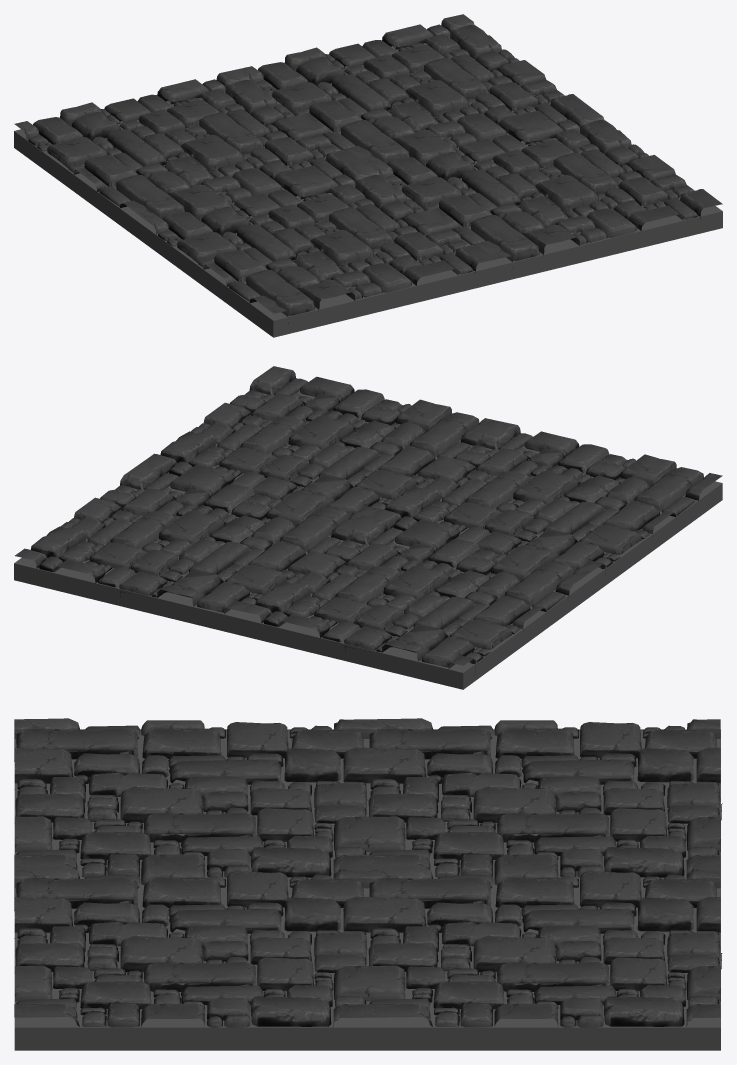
The model's file is cobblestone_plainSmall.fbx.
The picture shows the model from 3 angles, top to bottom: view 1: azimuth 30°, elevation 25°; view 2: azimuth 150°, elevation 25°; view 3: azimuth 270°, elevation 25°; orthographic projection. The views are drawn at different scales.
Visible parts, largest first — view 1: Ceiling_Plain .001; view 2: Ceiling_Plain .001; view 3: Ceiling_Plain .001.
Part boxes in pixels (box(x1,y1,x2,y2)): Ceiling_Plain .001: box(14, 14, 722, 337); Ceiling_Plain .001: box(14, 366, 722, 689); Ceiling_Plain .001: box(14, 718, 722, 1050).
Size of the model in its own units: 300 by 17.22 by 301.
2 materials, 1 textured.
